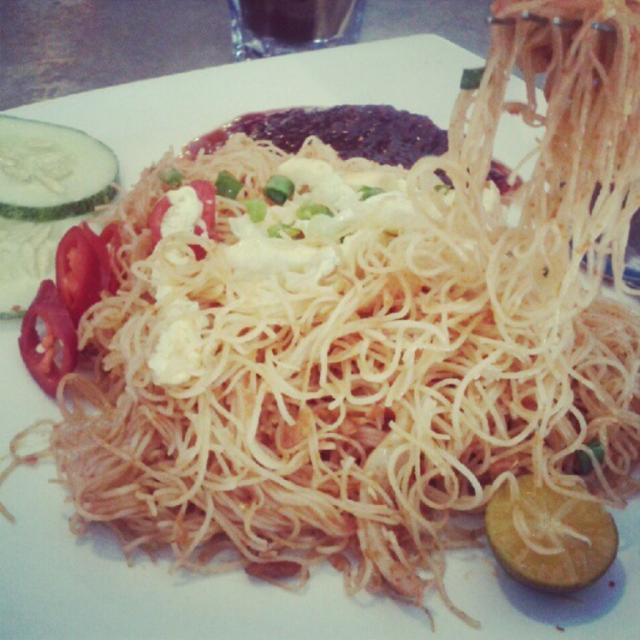Cucumber: (6, 115, 130, 216)
